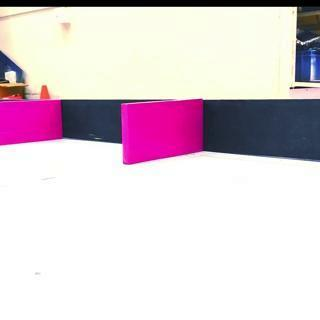xparking: (124, 102, 200, 163), (1, 100, 63, 146)
